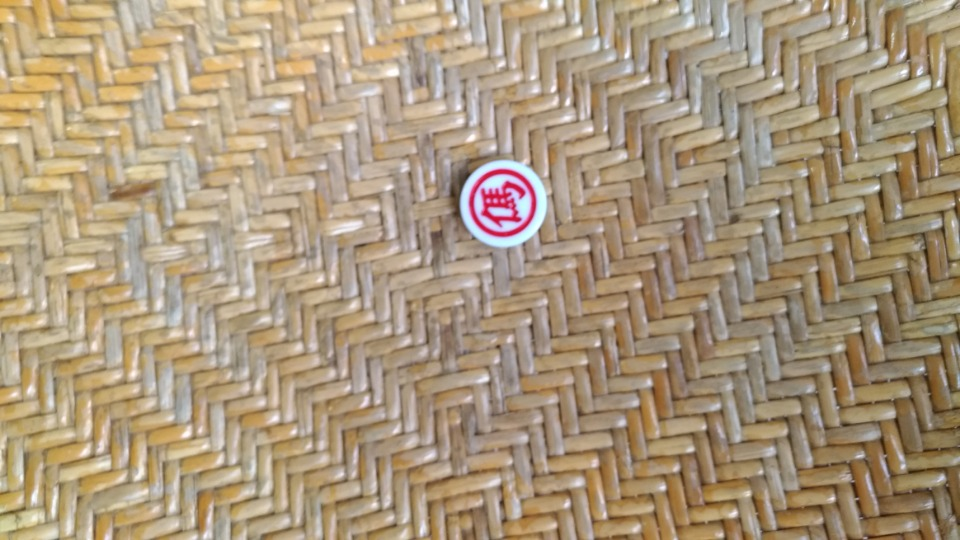r-knight: (448, 154, 558, 252)
